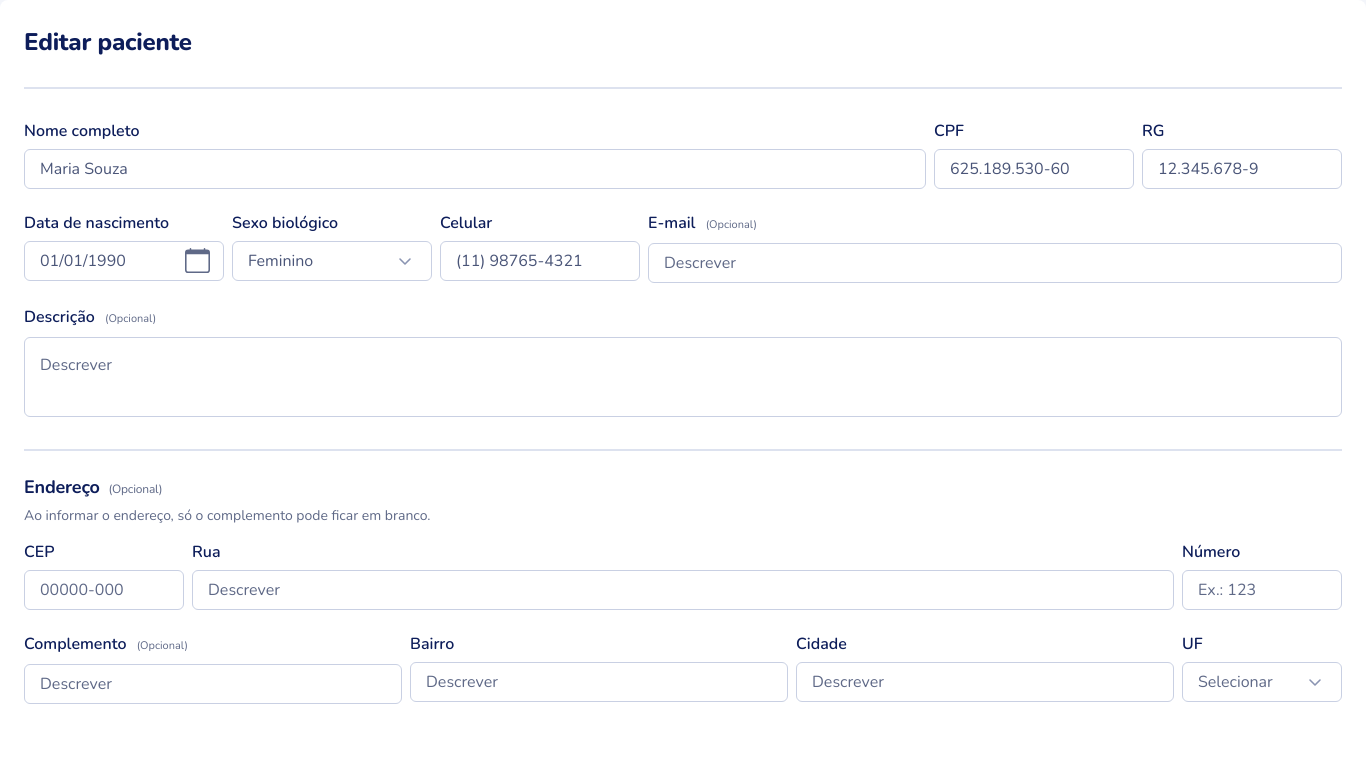
Scenario: PatientForm address › fills the address from the CEP, moves focus to Número and announces it
In the field labelled "CEP": (104, 590) [24,570,184,610], type "01310100"
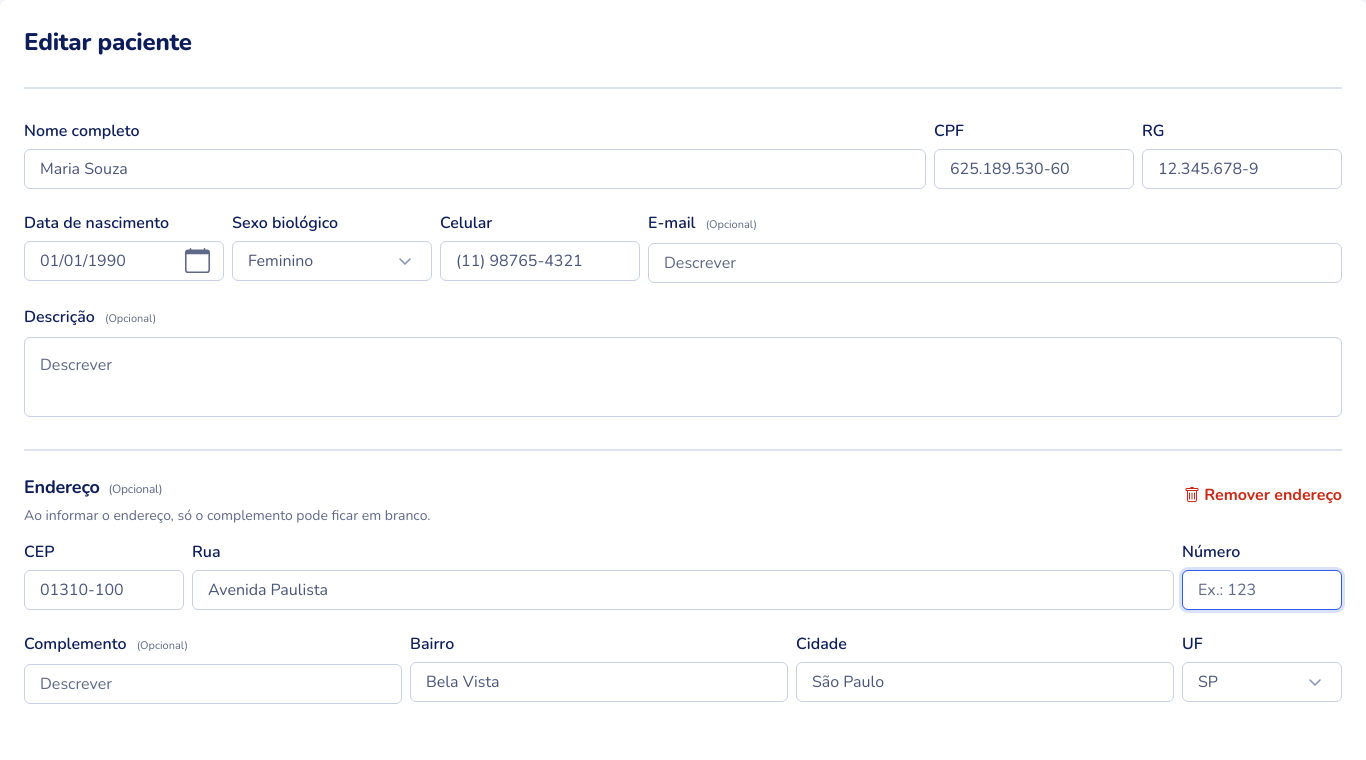
Now the field labelled "CEP" holds "01310-100", box [24,570,184,610]
Now the field labelled "Rua" holds "Avenida Paulista", box [192,570,1174,610]
Now the field labelled "Bairro" holds "Bela Vista", box [410,662,788,702]
